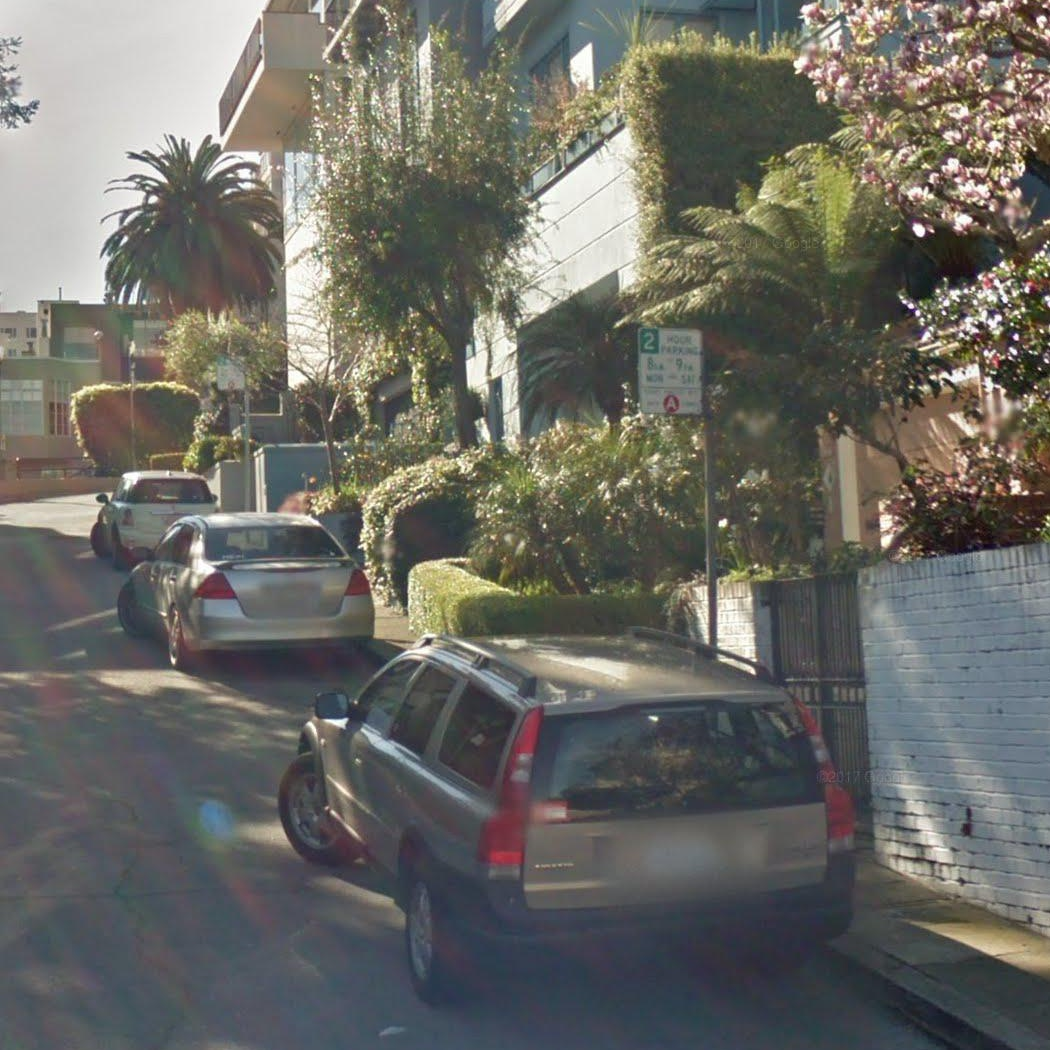2 Hour Parking: (635, 324, 706, 417), (217, 354, 246, 391)
